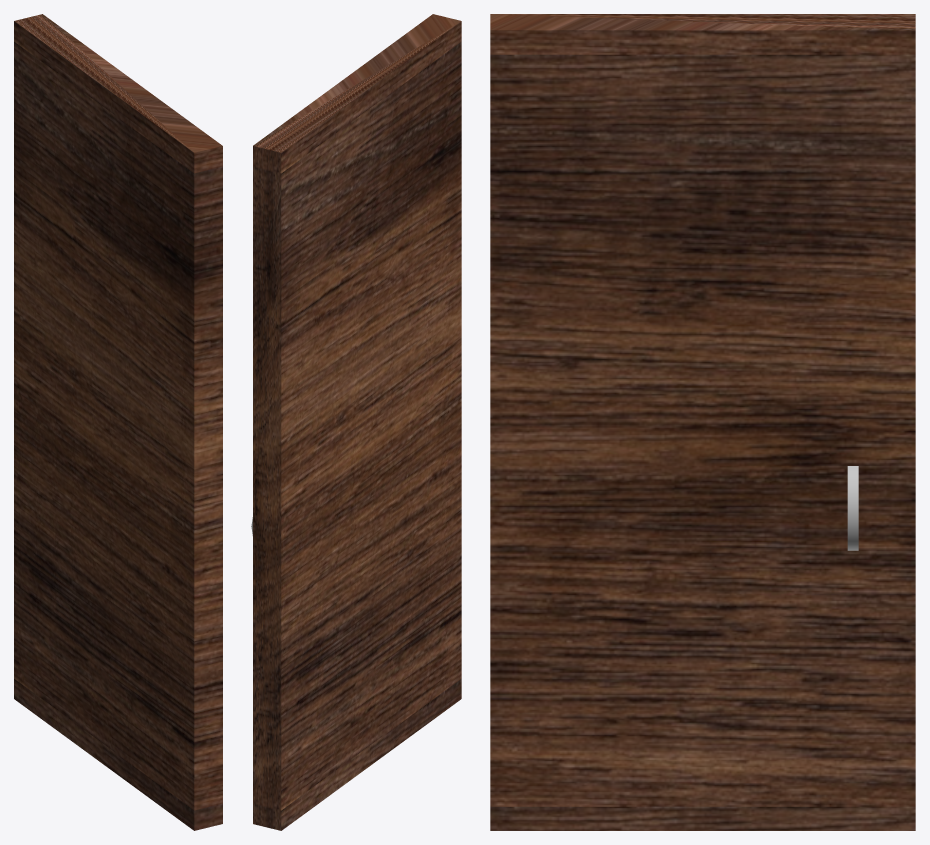
Rendered from pizq.obj.
3 views of the same model, side by side, from view 1: azimuth 30°, elevation 25°; view 2: azimuth 150°, elevation 25°; view 3: azimuth 270°, elevation 25° (orthographic). The views are drawn at different scales.
Visible parts, largest first — view 1: polySurface4; view 2: polySurface4; view 3: polySurface4.
Boxes of the visible parts, x1,y1,x2,y2 form: polySurface4: (14, 14, 222, 830); polySurface4: (251, 14, 461, 830); polySurface4: (490, 14, 915, 830).
Bounding box in the file's own units: 0.1815 × 2.18 × 1.05.
